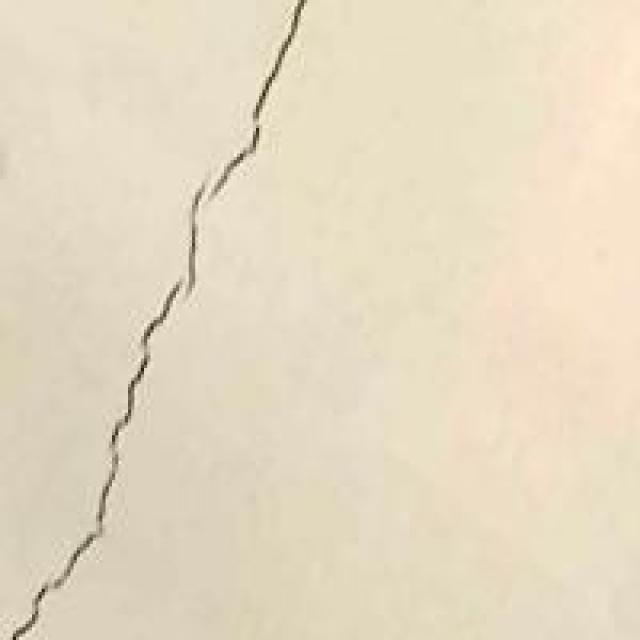Crack: (0, 0, 387, 637)
